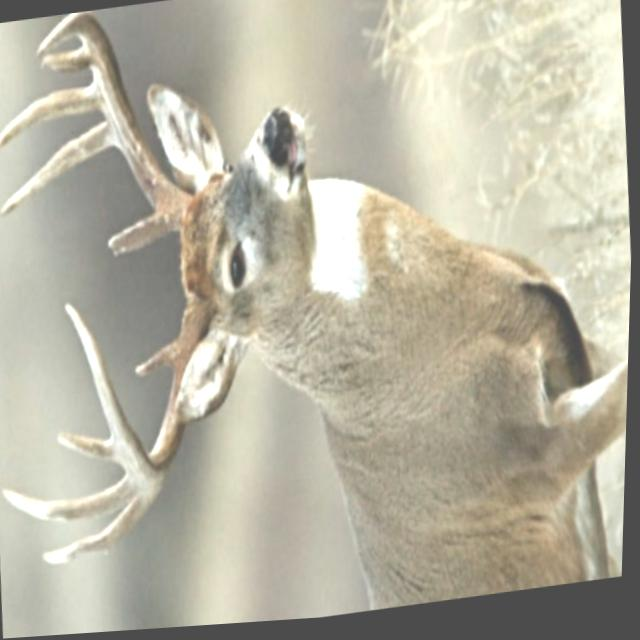L-F: (65, 297, 218, 499)
L-G1: (137, 337, 181, 377)
L-G2: (46, 496, 160, 564)
L-G3: (3, 474, 142, 521)
L-G4: (59, 430, 121, 463)
R-F: (35, 11, 195, 235)
R-G1: (108, 213, 172, 259)
R-G2: (1, 120, 117, 216)
R-G3: (0, 81, 101, 149)
R-G4: (41, 45, 91, 75)
